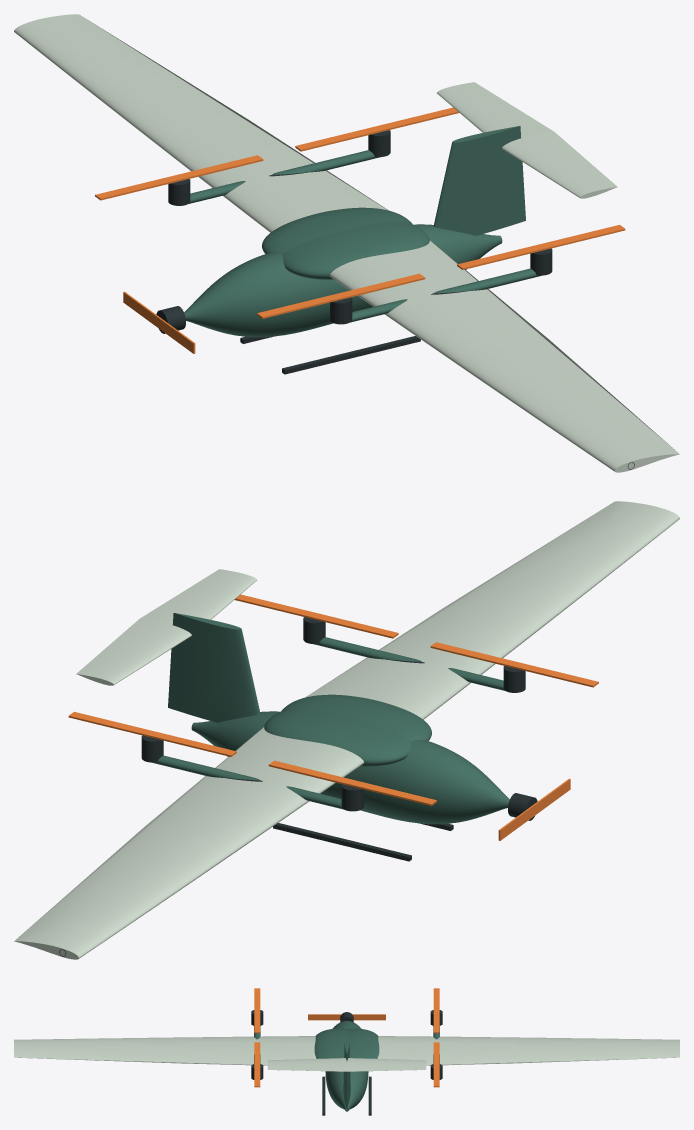
The model's file is surface_tools-08-model.glb.
3 renders of one model, top to bottom at view 1: azimuth 30°, elevation 25°; view 2: azimuth 150°, elevation 25°; view 3: azimuth 270°, elevation 25°, orthographic. The views are drawn at different scales.
Parts seen in each view (by area): view 1: wing-1, wing1, fuselage, fin, root_fairing-1, tail-1, root_fairing1, tail1, boom_fairing-1, boom_fairing1, prop_1_200.0, prop_-1_200.0 (+4 smaller); view 2: wing1, wing-1, fuselage, fin, root_fairing1, tail1, root_fairing-1, tail-1, boom_fairing1, boom_fairing-1, prop_-1_200.0, prop_1_200.0 (+4 smaller); view 3: wing-1, wing1, fuselage, tail-1, tail1, root_fairing1, root_fairing-1, cruise_prop, fin, prop_-1_200.0, prop_-1_700.0, prop_1_200.0 (+1 smaller).
Part boxes in pixels (x1=…): wing-1: x1=330, y1=240, x2=679, y2=472; wing1: x1=14, y1=14, x2=388, y2=232; fuselage: x1=184, y1=224, x2=502, y2=337; fin: x1=433, y1=126, x2=525, y2=235; root_fairing-1: x1=282, y1=222, x2=429, y2=279; tail-1: x1=502, y1=131, x2=617, y2=198; root_fairing1: x1=262, y1=207, x2=412, y2=253; tail1: x1=437, y1=82, x2=553, y2=137; boom_fairing-1: x1=350, y1=268, x2=541, y2=322; boom_fairing1: x1=189, y1=150, x2=380, y2=203; prop_1_200.0: x1=95, y1=155, x2=263, y2=200; prop_-1_200.0: x1=257, y1=273, x2=425, y2=318; wing1: x1=14, y1=727, x2=363, y2=959; wing-1: x1=305, y1=501, x2=679, y2=719; fuselage: x1=191, y1=711, x2=509, y2=824; fin: x1=168, y1=613, x2=260, y2=722; root_fairing1: x1=264, y1=709, x2=411, y2=766; tail1: x1=76, y1=618, x2=191, y2=685; root_fairing-1: x1=281, y1=694, x2=431, y2=740; tail-1: x1=140, y1=569, x2=256, y2=624; boom_fairing1: x1=152, y1=755, x2=343, y2=809; boom_fairing-1: x1=313, y1=637, x2=504, y2=690; prop_-1_200.0: x1=430, y1=642, x2=598, y2=687; prop_1_200.0: x1=268, y1=760, x2=436, y2=805; wing-1: x1=14, y1=1036, x2=316, y2=1065; wing1: x1=377, y1=1036, x2=679, y2=1065; fuselage: x1=325, y1=1021, x2=368, y2=1111; tail-1: x1=267, y1=1058, x2=346, y2=1071; tail1: x1=347, y1=1058, x2=426, y2=1071; root_fairing1: x1=347, y1=1028, x2=379, y2=1058; root_fairing-1: x1=314, y1=1028, x2=346, y2=1058; cruise_prop: x1=308, y1=1014, x2=385, y2=1020; fin: x1=343, y1=1036, x2=350, y2=1108; prop_-1_200.0: x1=254, y1=988, x2=260, y2=1033; prop_-1_700.0: x1=254, y1=1042, x2=260, y2=1087; prop_1_200.0: x1=433, y1=988, x2=439, y2=1033.
Size of the model in its own units: 989 by 405 by 2600.
